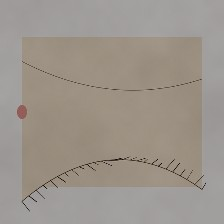corneal_ulcer: (79, 85, 138, 131)
